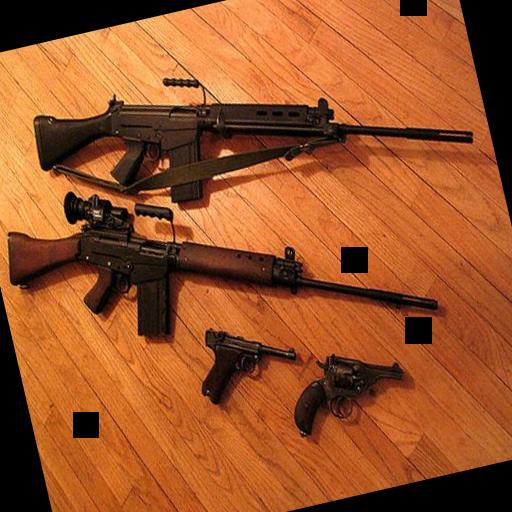Handgun: (274, 337, 412, 438), (186, 310, 302, 409)
